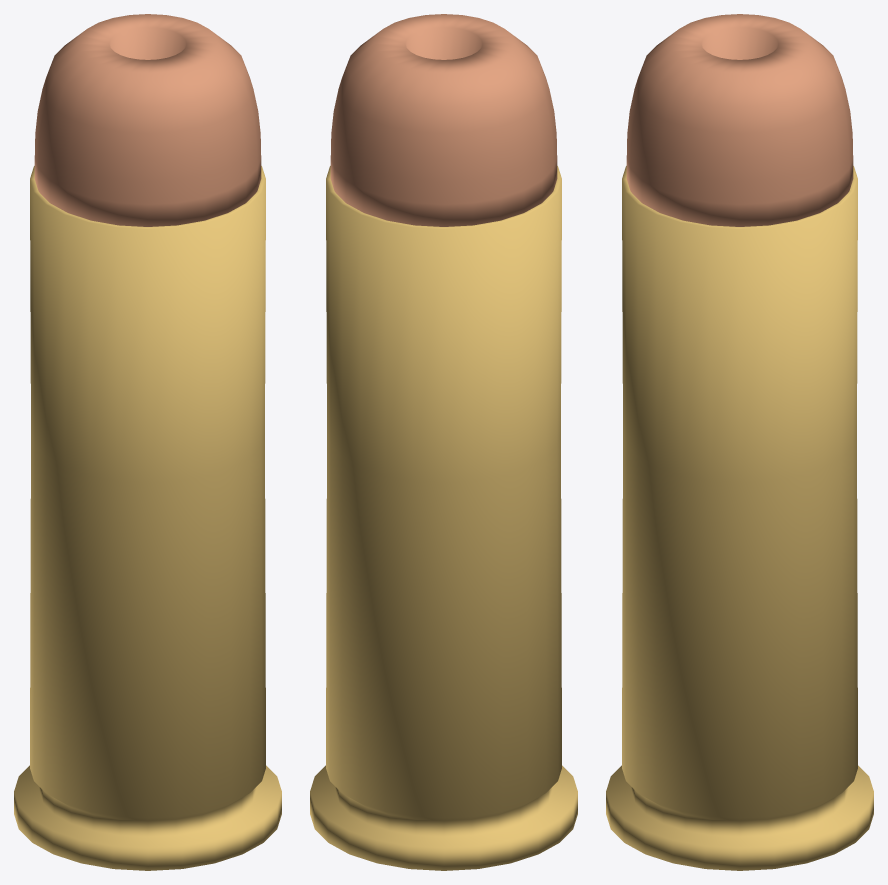
The picture shows the model from 3 angles, left to right: view 1: azimuth 30°, elevation 25°; view 2: azimuth 150°, elevation 25°; view 3: azimuth 270°, elevation 25°; orthographic projection.
Parts seen in each view (by area): view 1: vaina, bala_hueca; view 2: vaina, bala_hueca; view 3: vaina, bala_hueca.
Boxes of the visible parts, bbox=[...] form: vaina: bbox=[14, 166, 281, 870]; bala_hueca: bbox=[34, 14, 261, 226]; vaina: bbox=[310, 166, 577, 870]; bala_hueca: bbox=[330, 14, 557, 226]; vaina: bbox=[606, 166, 873, 870]; bala_hueca: bbox=[626, 14, 853, 226].
Size of the model in its own units: 0.0136 by 0.0432 by 0.0136.
